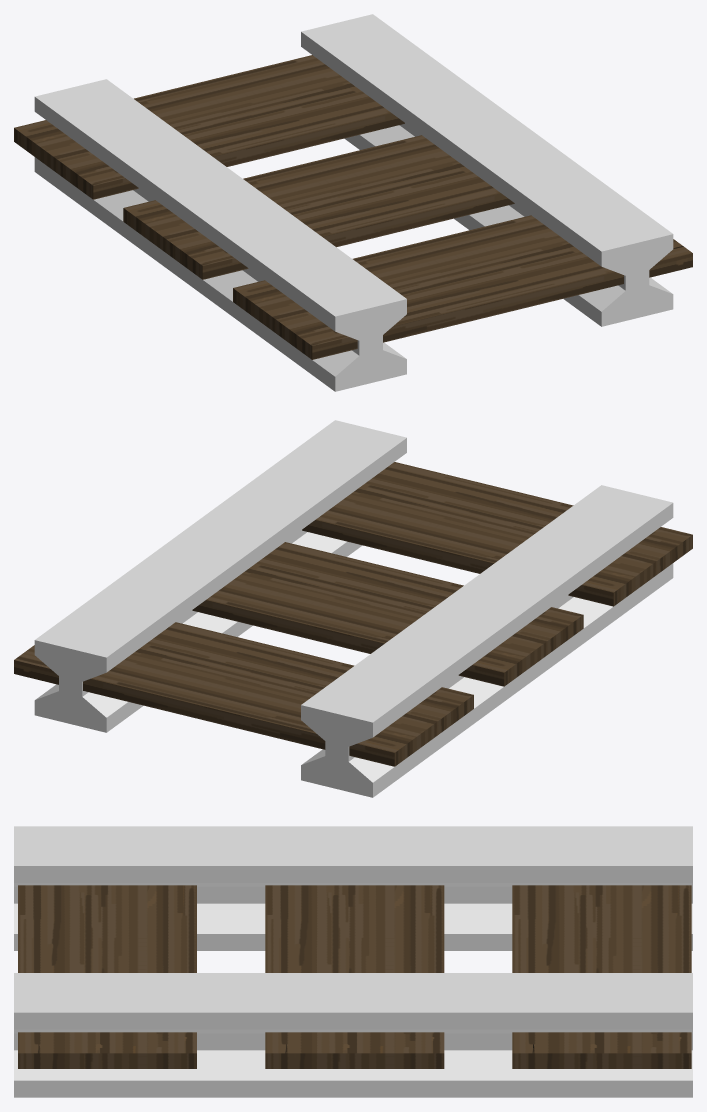
The model's file is Rails.fbx.
3 views of the same model, one above another, from view 1: azimuth 30°, elevation 25°; view 2: azimuth 150°, elevation 25°; view 3: azimuth 270°, elevation 25° (orthographic). The views are drawn at different scales.
Parts seen in each view (by area): view 1: Cube, Plank; view 2: Cube, Plank; view 3: Cube, Plank.
Boxes of the visible parts, x1,y1,x2,y2 form: Cube: [34, 14, 673, 391]; Plank: [14, 55, 692, 359]; Cube: [34, 420, 673, 797]; Plank: [14, 462, 692, 766]; Cube: [14, 826, 692, 1097]; Plank: [18, 885, 691, 1068].
Size of the model in its own units: 237 by 44.83 by 324.
